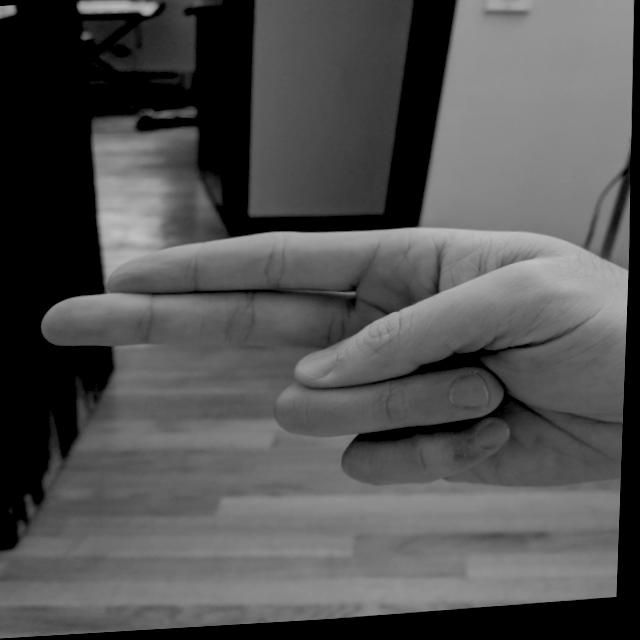H: (28, 202, 632, 537)
